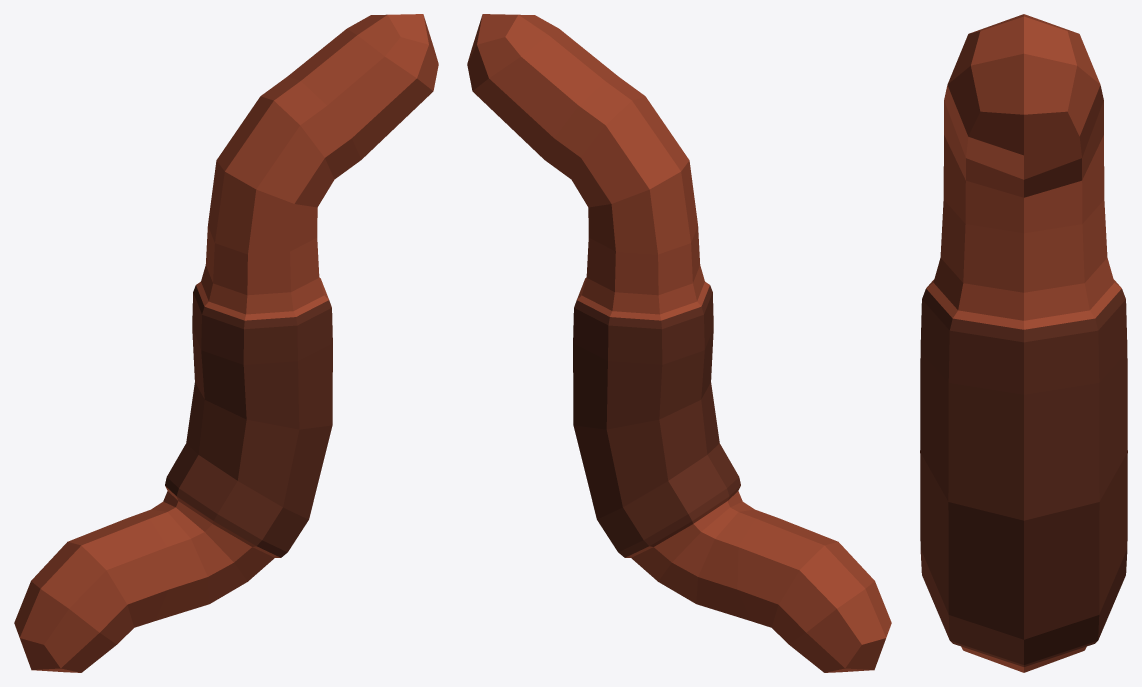
File: food_worm (1).fbx
The picture shows the model from 3 angles, left to right: view 1: azimuth 30°, elevation 25°; view 2: azimuth 150°, elevation 25°; view 3: azimuth 270°, elevation 25°; orthographic projection. The views are drawn at different scales.
Visible parts, largest first — view 1: Minhoca; view 2: Minhoca; view 3: Minhoca.
Part boxes in pixels (x1,y1,x2,y2): Minhoca: [14, 14, 438, 672]; Minhoca: [467, 14, 891, 672]; Minhoca: [920, 14, 1127, 672].
Bounding box in the file's own units: 68.87 × 91.95 × 20.47.
